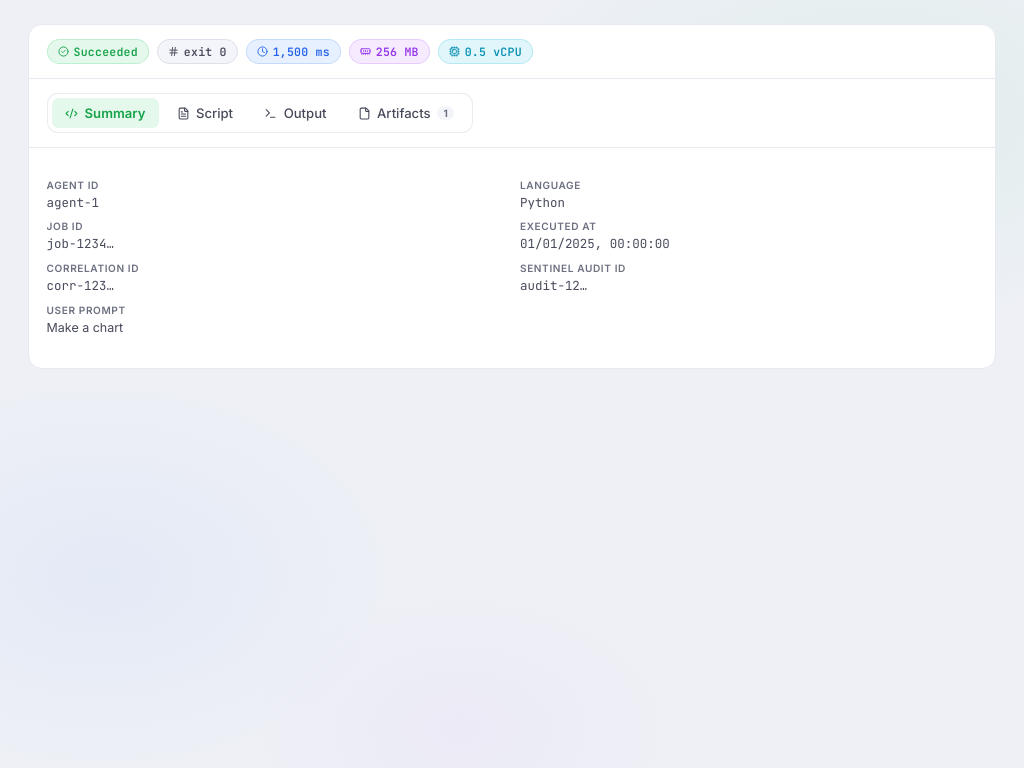
SandboxRunDetail tabs › shows the source code on the Script tab
The image size is (1024, 768).
Click the tab "Script": (205, 113) [163,98,247,128]
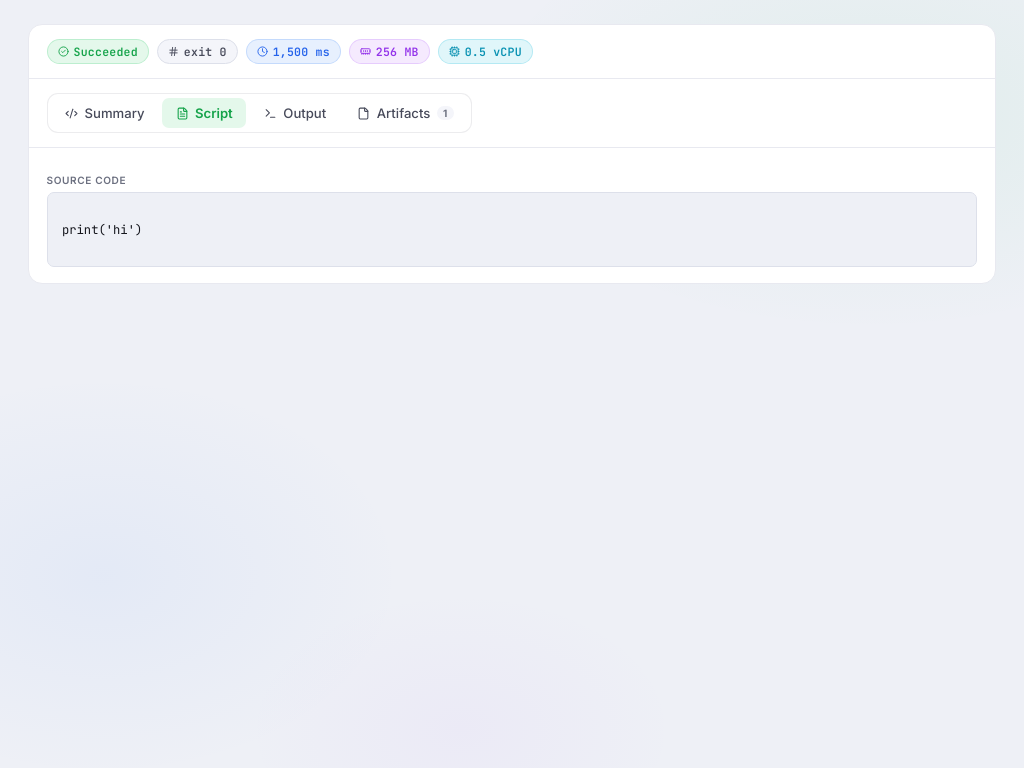
Result: the text "print('hi')" is shown at [62,222,142,238]
